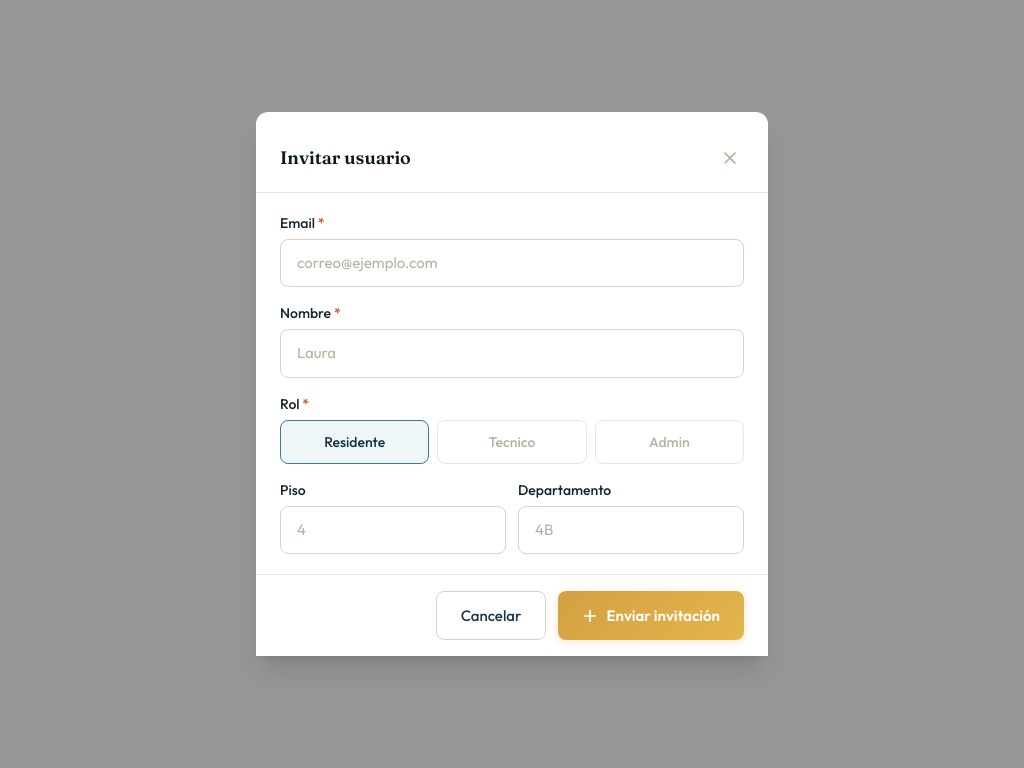
it: ModalInvitacion › muestra error de validación si email está vacío
Click the button "Enviar invitación". click: (651, 616)
box: [558,591,744,640]
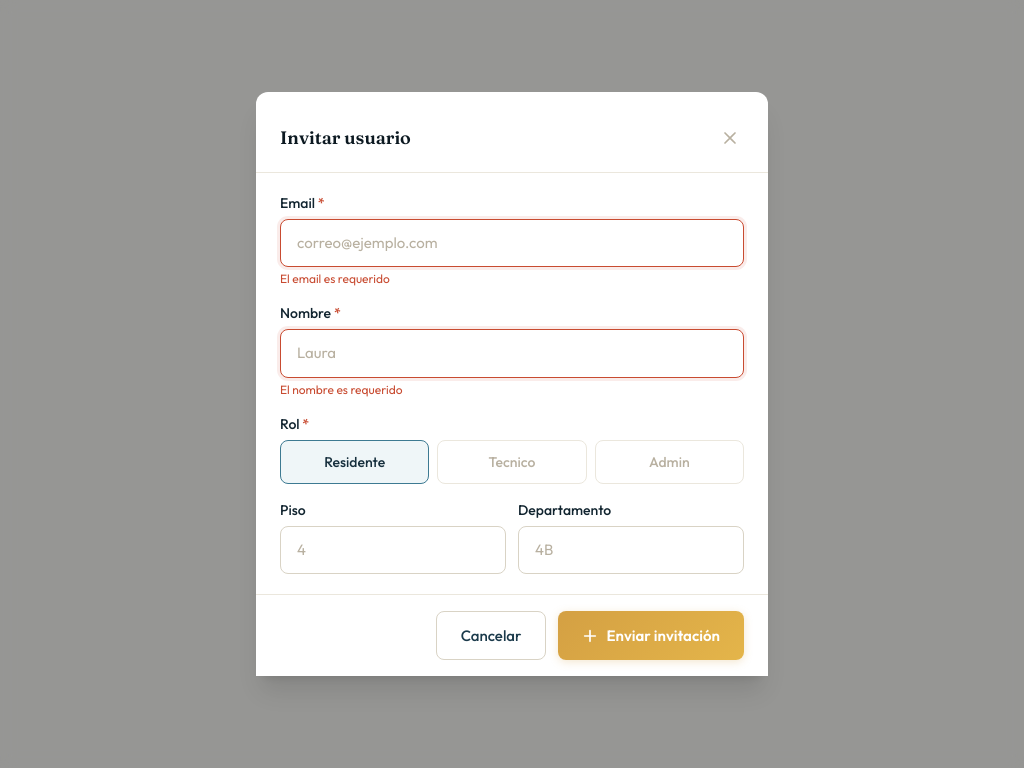
expect the text "El email es requerido" is shown: met, box [280,271,390,286]
